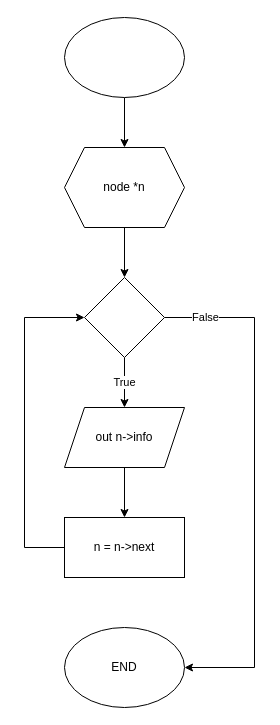
The diagram is 280 pixels wide and 725 high, and some of its shapes have lost their labels. Each missing label, with the box of its shape:
n != NULL: (84, 276, 164, 358)
START: (64, 16, 184, 98)
